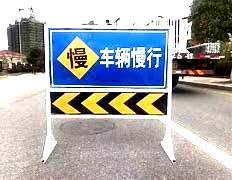sign: (47, 27, 168, 118)
